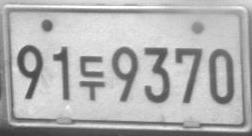0: (208, 48, 236, 105)
1: (50, 45, 76, 100)
3: (142, 46, 171, 104)
7: (174, 46, 202, 103)
9: (110, 45, 139, 101), (16, 43, 43, 100)
두: (79, 55, 105, 101)
